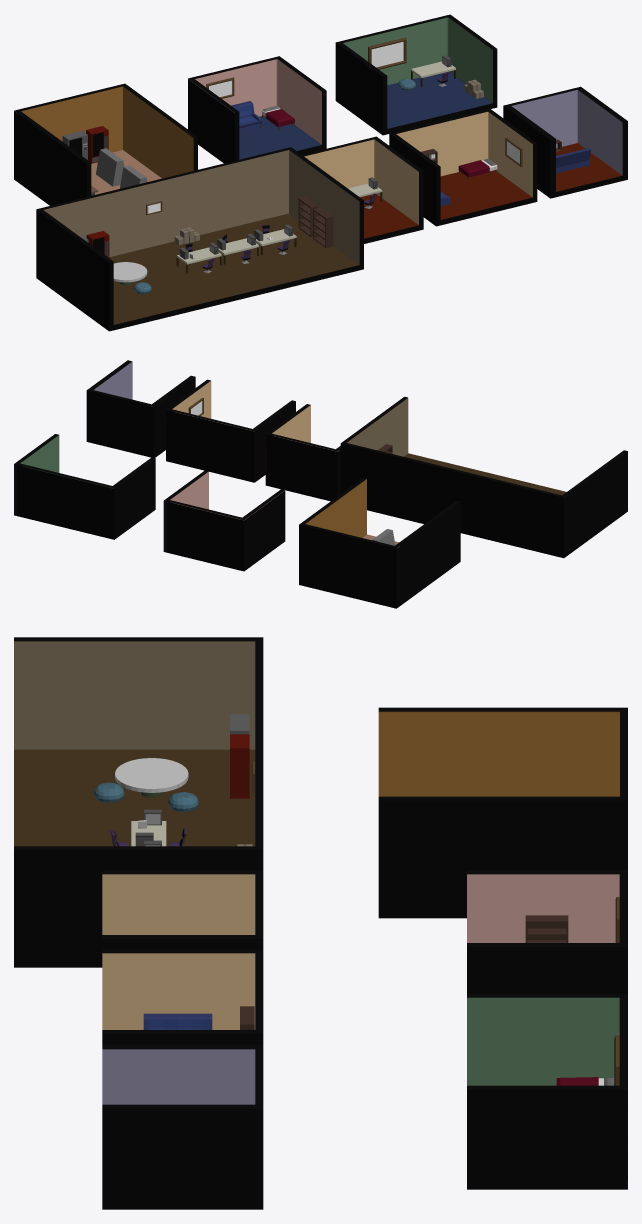
Rendered from ProjectRiddleInteriors.fbx.
3 views of the same model, one above another, from view 1: azimuth 30°, elevation 25°; view 2: azimuth 150°, elevation 25°; view 3: azimuth 270°, elevation 25° (orthographic). The views are drawn at different scales.
Visible parts, largest first — view 1: Cube.048, Cube.106, Cube.101, Cube.079, Cube.096, Cube.077, Cube.082, Cube.104, Cube.105, Cube.056, Cylinder.005, Mesa.006 (+7 smaller); view 2: Cube.048, Cube.106, Cube.101, Cube.096, Cube.079, Cube.077, Cube.082; view 3: Cube.048, Cube.106, Cube.101, Cube.077, Cube.096, Cube.079, Cube.082, Cylinder.005, Cube.057, Cube.094, Mesa.008.
Boxes of the visible parts, <box> form: Cube.048: <box>36,147,363,331</box>; Cube.106: <box>14,83,197,205</box>; Cube.101: <box>335,14,497,135</box>; Cube.079: <box>389,109,537,226</box>; Cube.096: <box>188,56,326,163</box>; Cube.077: <box>503,86,627,198</box>; Cube.082: <box>302,136,423,243</box>; Cube.104: <box>368,37,406,69</box>; Cube.105: <box>96,148,124,186</box>; Cube.056: <box>313,207,333,247</box>; Cylinder.005: <box>113,262,147,285</box>; Mesa.006: <box>556,148,591,173</box>; Cube.048: <box>340,396,627,558</box>; Cube.106: <box>299,478,460,608</box>; Cube.101: <box>14,434,155,539</box>; Cube.096: <box>163,470,285,571</box>; Cube.079: <box>166,379,295,482</box>; Cube.077: <box>86,360,195,457</box>; Cube.082: <box>265,404,340,501</box>; Cube.048: <box>14,637,263,967</box>; Cube.106: <box>378,707,627,918</box>; Cube.101: <box>467,993,627,1189</box>; Cube.077: <box>102,1044,263,1209</box>; Cube.096: <box>467,870,627,993</box>; Cube.079: <box>102,949,263,1044</box>; Cube.082: <box>102,870,263,949</box>; Cylinder.005: <box>115,758,188,797</box>; Cube.057: <box>230,734,249,798</box>; Cube.094: <box>525,915,568,942</box>; Mesa.008: <box>143,1013,212,1029</box>.
Bounding box in the file's own units: 22347 × 2700 × 12763.
Materials: 75 (75 with a texture image).
